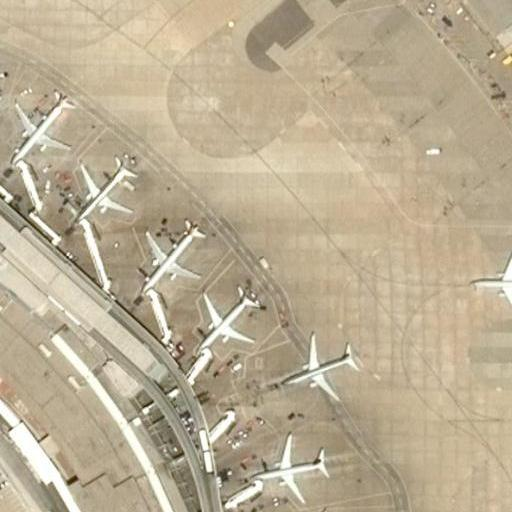Aircraft: (4, 80, 75, 165), (274, 326, 359, 396), (138, 219, 212, 294), (248, 435, 336, 497), (67, 153, 142, 223), (191, 284, 266, 353), (277, 511, 369, 512)
